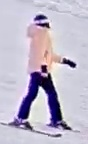skier: (0, 14, 80, 140)
